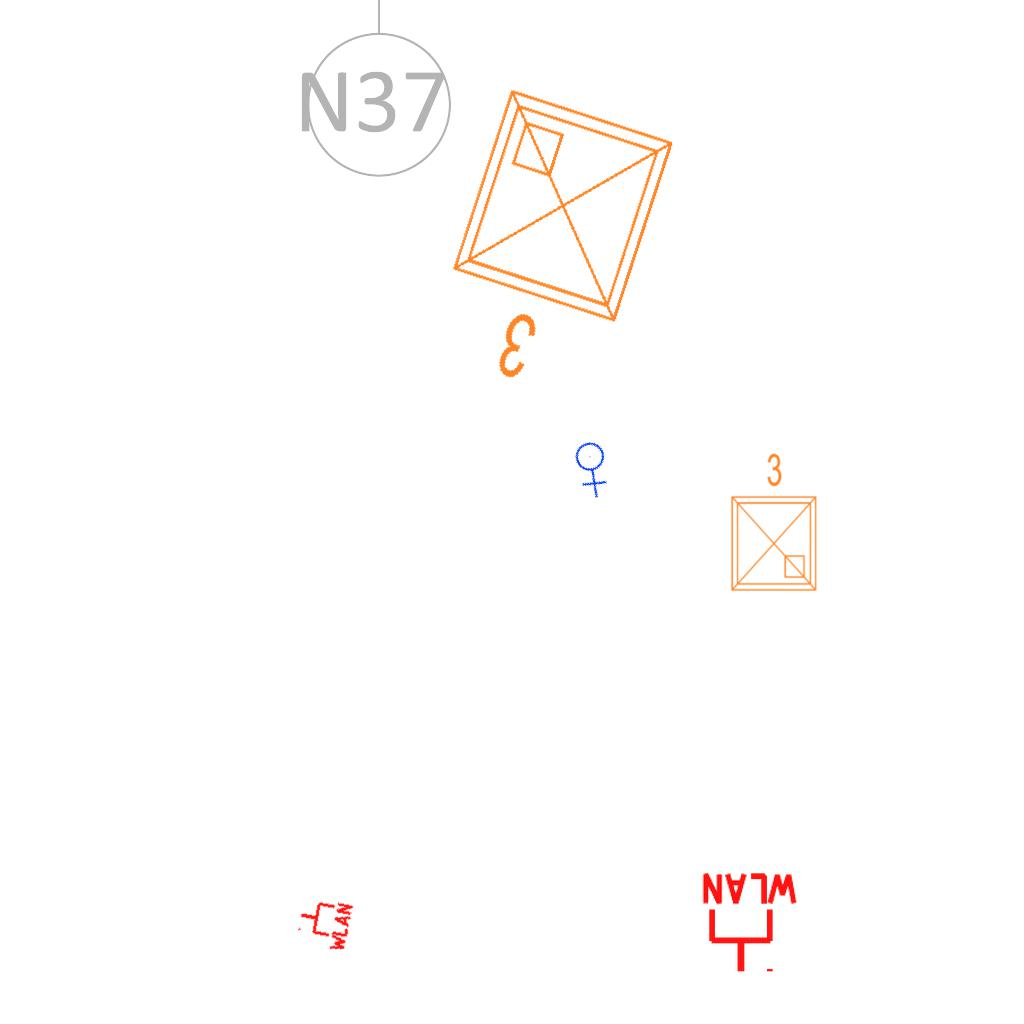Einbaudownlights_LED_Konferenzraeume: (408, 71, 700, 421), (720, 448, 824, 598)
Elektroanschluss_allgemein_230V_Geraeteanschlussdose_230V: (560, 432, 627, 501)
WLAN: (698, 871, 802, 976), (293, 893, 355, 955)
